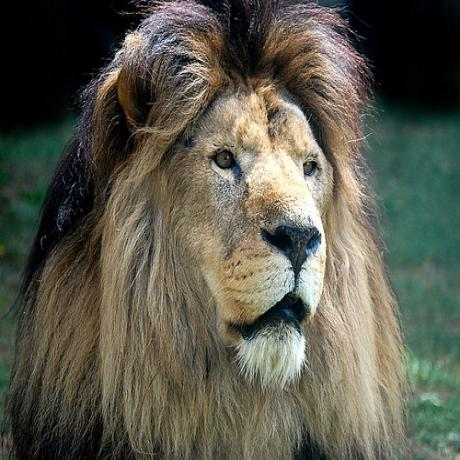Lion: (6, 0, 412, 460)
